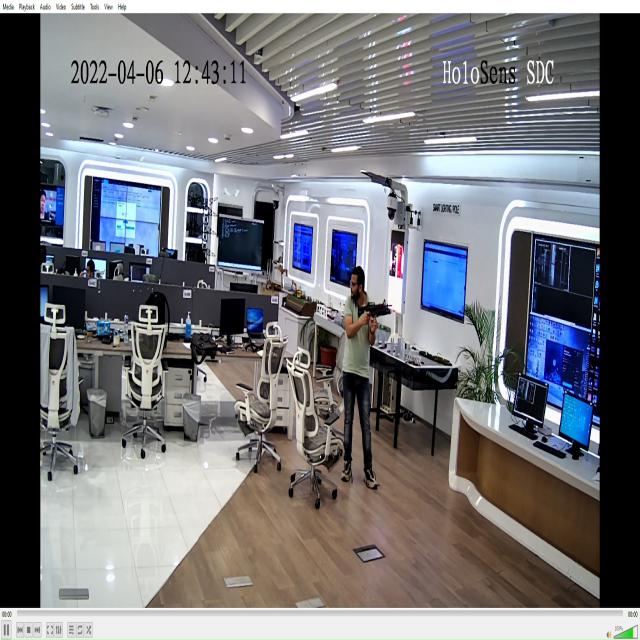long weapon: (356, 301, 400, 334)
